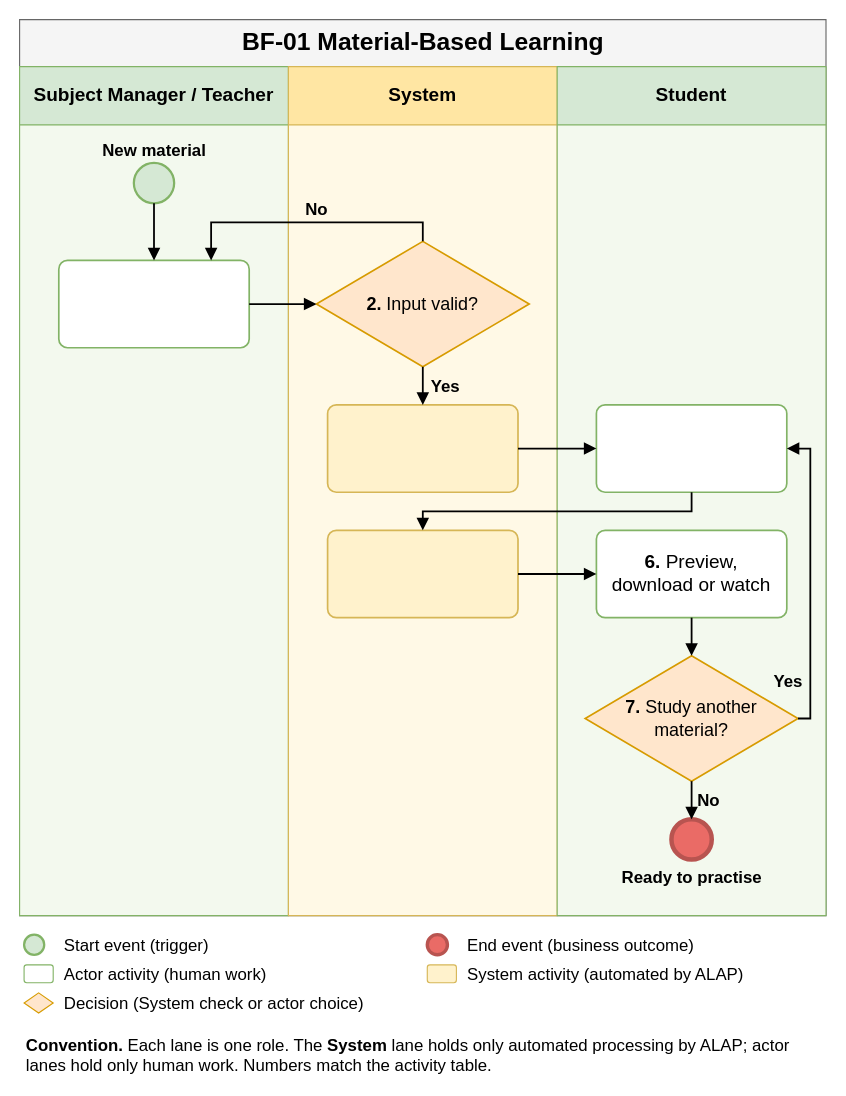
Image size: 846x1096. Some labels were removed from this diagram. The shapes that lost their labels are listed below. From the top down, each one's centre as x and y in pixels, then its label:
(x=153, y=303): 1. Select module, add file or video link
(x=422, y=448): 3. Store privately, save material
(x=691, y=448): 4. Open class, select material
(x=422, y=573): 5. Issue short-lived access link
